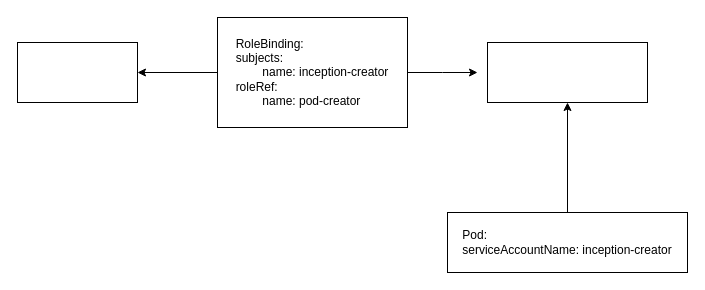
Some shapes in this 705 by 290 pixel diagram are drawn without their labels. The shapes that lost their labels are listed below. From the top down, each one's centre as x and y in pixels, then its label:
At (77,72): "Role: name: pod-creator".
At (567,72): "ServiceAccount: name: inception-creator".
